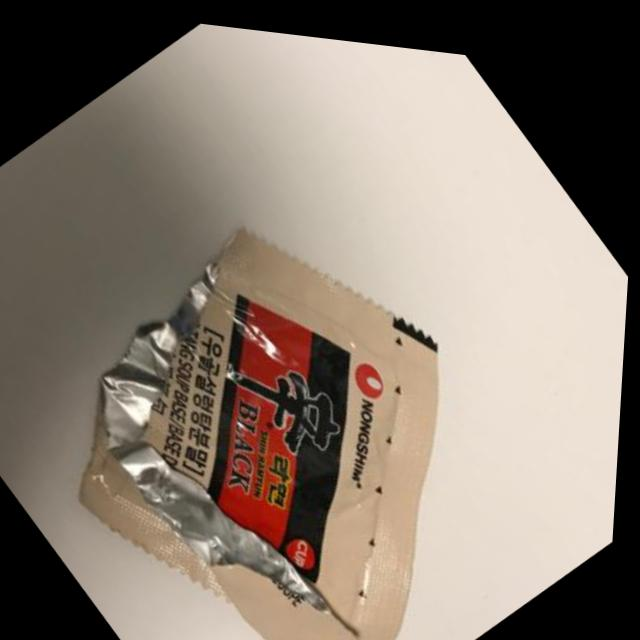trash: (0, 59, 637, 640)
